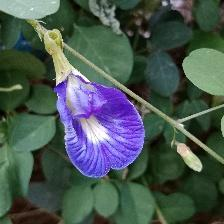shankupushpam: (52, 69, 149, 181)
